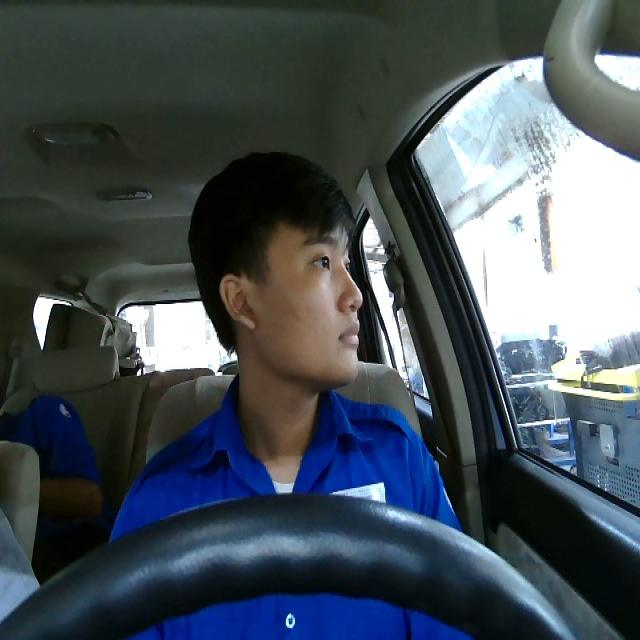seeing_right: (217, 215, 365, 385)
